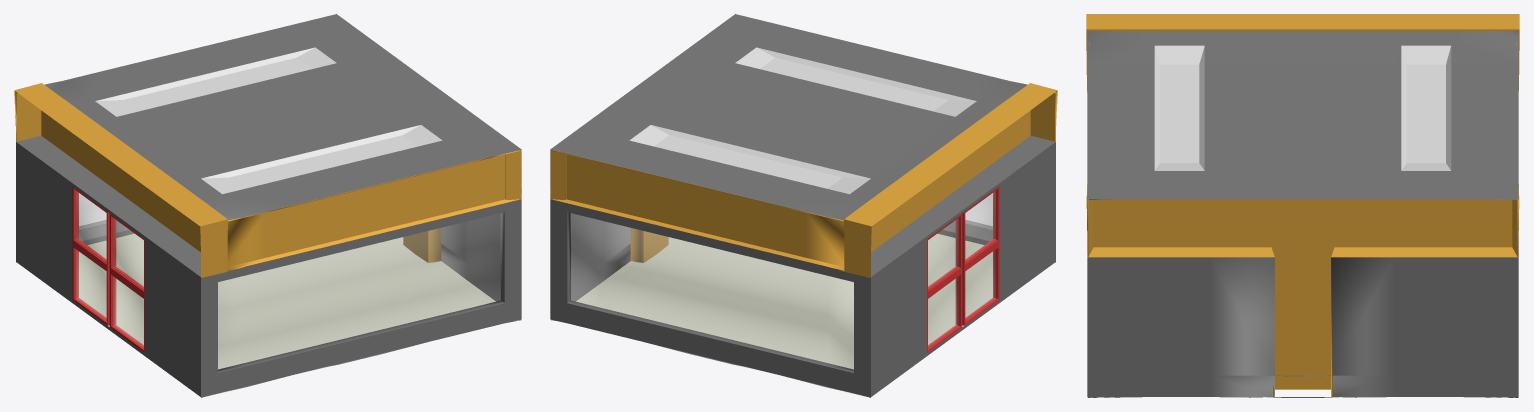
The model's file is Escenario_tienda.fbx.
3 renders of one model, left to right at view 1: azimuth 30°, elevation 25°; view 2: azimuth 150°, elevation 25°; view 3: azimuth 270°, elevation 25°, orthographic. The views are drawn at different scales.
Parts seen in each view (by area): view 1: tiena, cristal; view 2: tiena, cristal; view 3: tiena.
Part boxes in pixels (x1=…): tiena: x1=14, y1=14, x2=521, y2=397; cristal: x1=76, y1=191, x2=500, y2=369; tiena: x1=550, y1=14, x2=1057, y2=397; cristal: x1=571, y1=191, x2=995, y2=369; tiena: x1=1086, y1=14, x2=1519, y2=397.
Bounding box in the file's own units: 3226 × 1655 × 3227.
